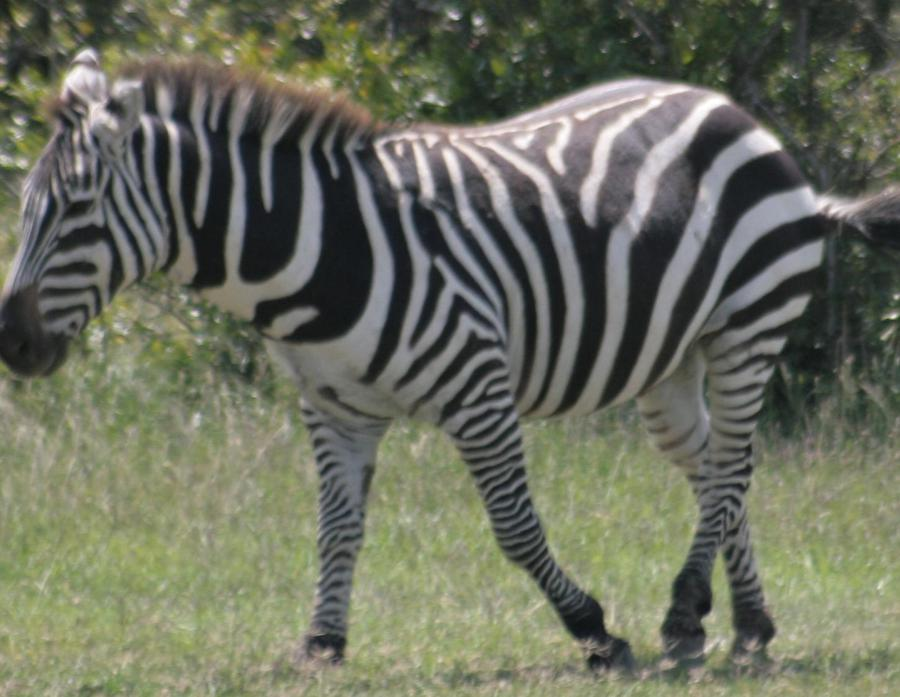zebra_plains: (266, 89, 859, 405)
